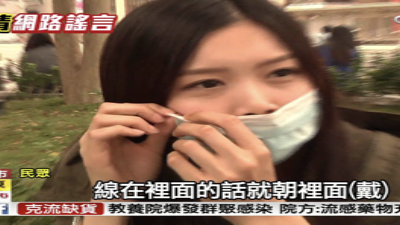mask_weared_incorrect: (168, 47, 325, 169)
